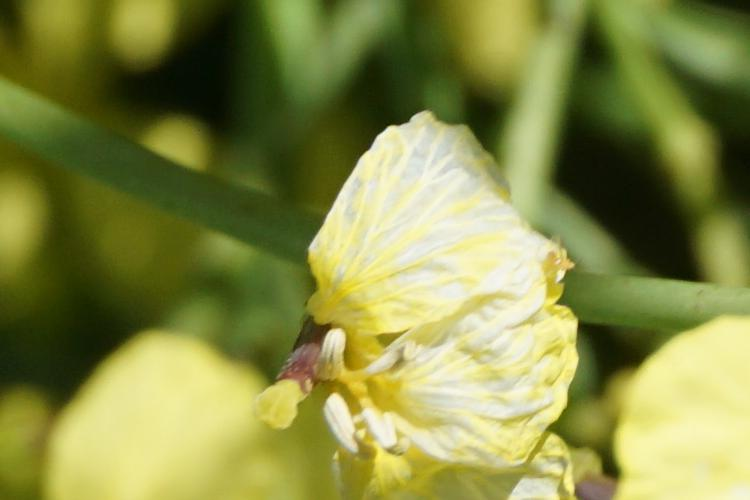yellow: (312, 134, 580, 448)
